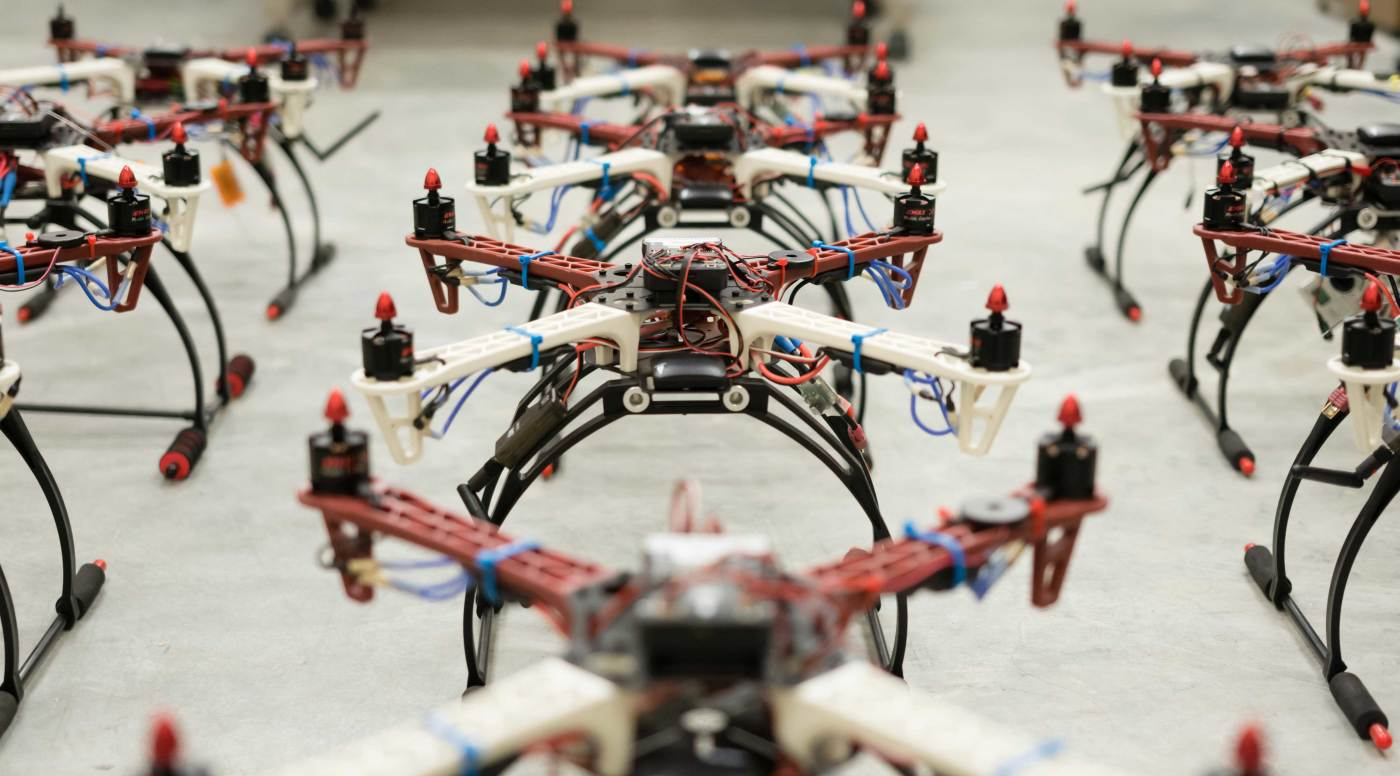drone: (350, 163, 1037, 717), (295, 385, 1117, 776), (465, 58, 945, 366), (1, 2, 384, 327), (1050, 1, 1400, 330), (1, 123, 257, 496), (1169, 121, 1400, 480), (1243, 278, 1400, 756), (499, 1, 909, 122), (1, 345, 109, 746)
